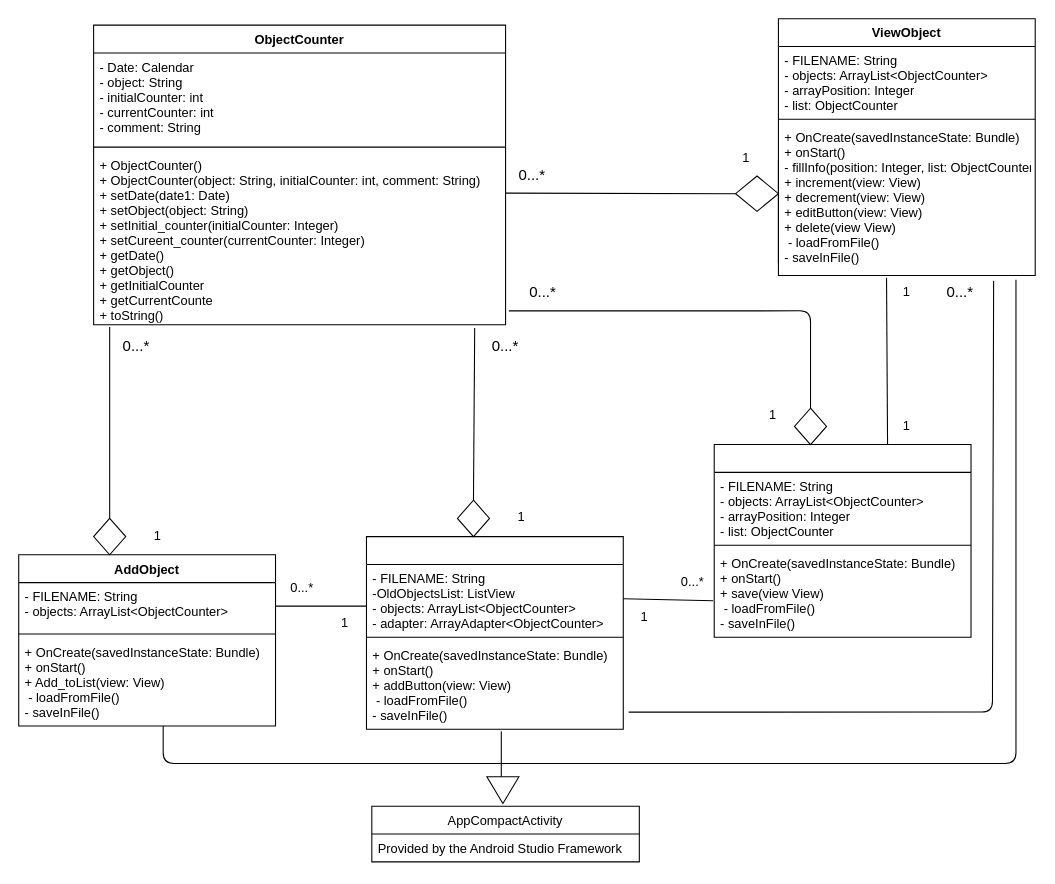
Some shapes in this 1055 by 884 pixel diagram are drawn without their labels. The shapes that lost their labels are listed below. From the top down, each one's box as (x1, y1, x2, y2) in pixels, then its label:
(713, 444, 971, 637): EditObject
(365, 536, 623, 729): MainActivity
